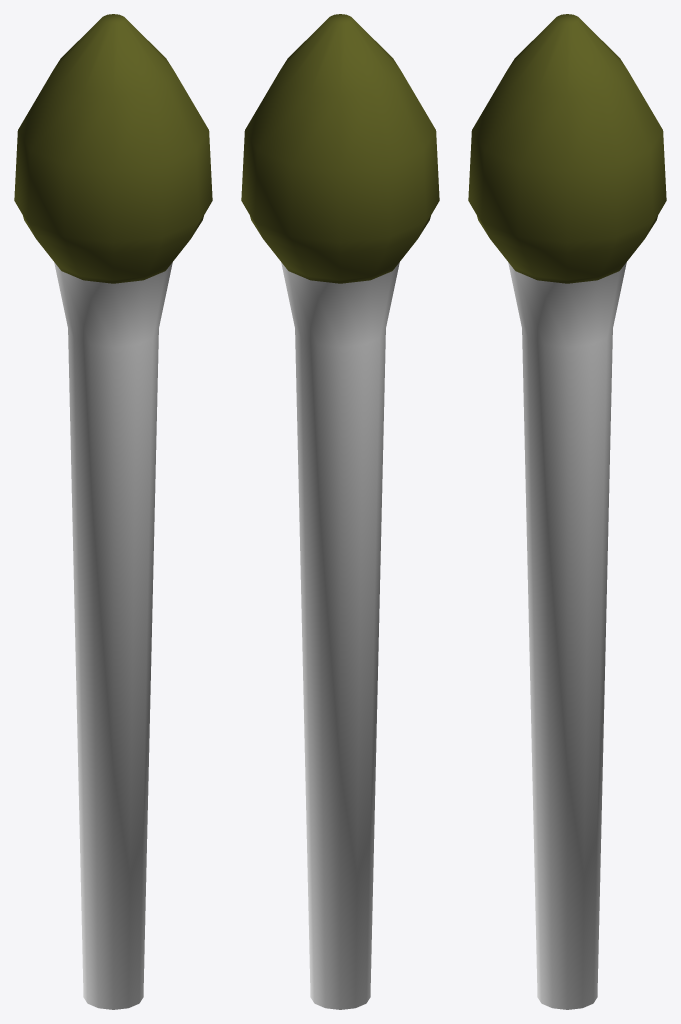
Rendered from Spidelilie_Stage2.fbx.
The picture shows the model from 3 angles, left to right: view 1: azimuth 30°, elevation 25°; view 2: azimuth 150°, elevation 25°; view 3: azimuth 270°, elevation 25°; orthographic projection.
Visible parts, largest first — view 1: StemStage2; view 2: StemStage2; view 3: StemStage2.
Part boxes in pixels (<box>): StemStage2: <box>14,14,212,1009</box>; StemStage2: <box>241,14,439,1009</box>; StemStage2: <box>468,14,666,1009</box>.
Bounding box in the file's own units: 0.1966 × 1.07 × 0.1966.
